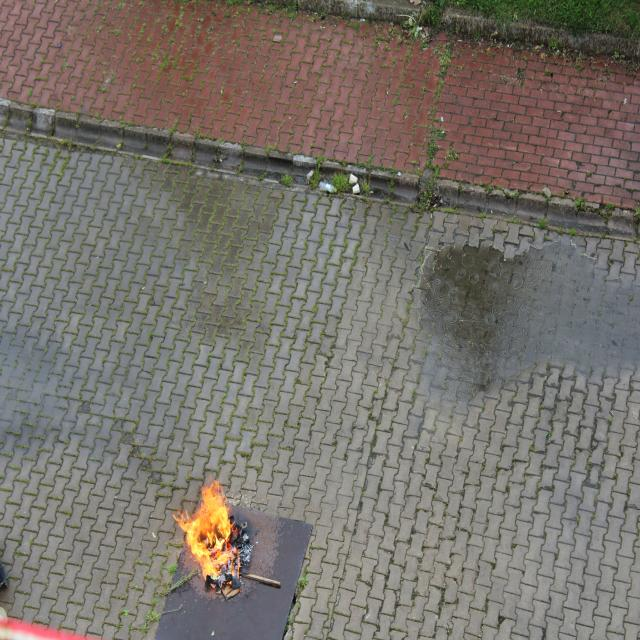fire: (173, 470, 249, 592)
